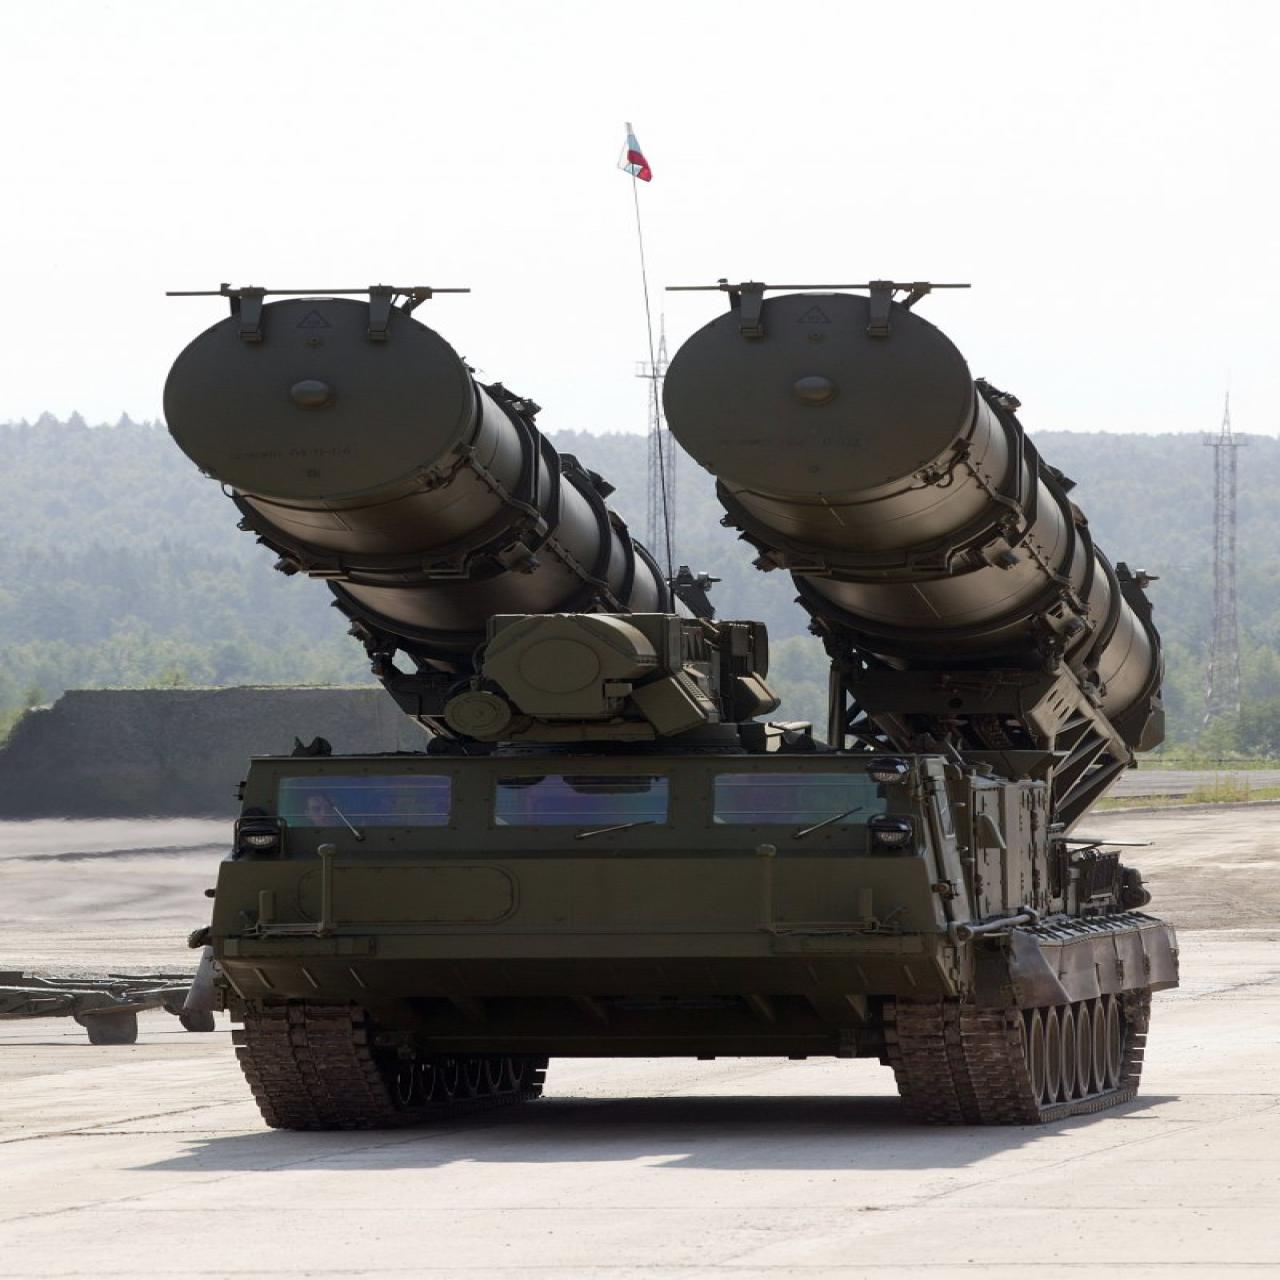MIL_Veh: (175, 273, 1173, 1142)
